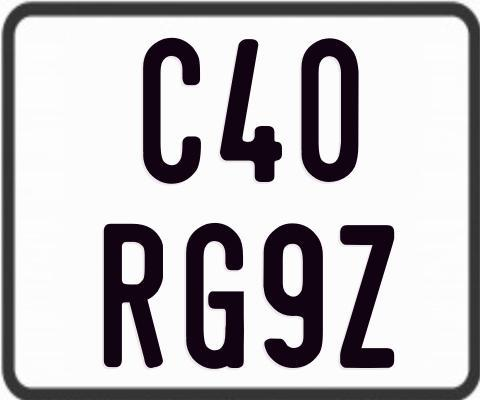0: (298, 36, 360, 181)
4: (217, 38, 284, 184)
9: (261, 223, 326, 372)
C: (142, 37, 204, 184)
G: (184, 221, 248, 373)
R: (104, 221, 169, 371)
Z: (338, 224, 392, 369)
